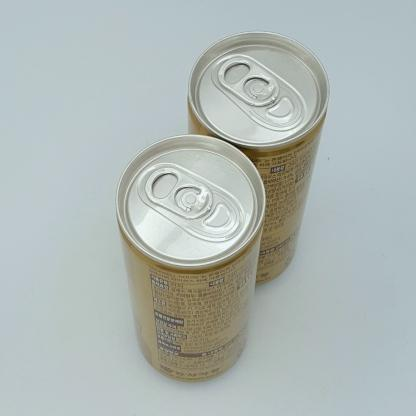-----------------240ML: (115, 134, 266, 382), (187, 31, 330, 286)
